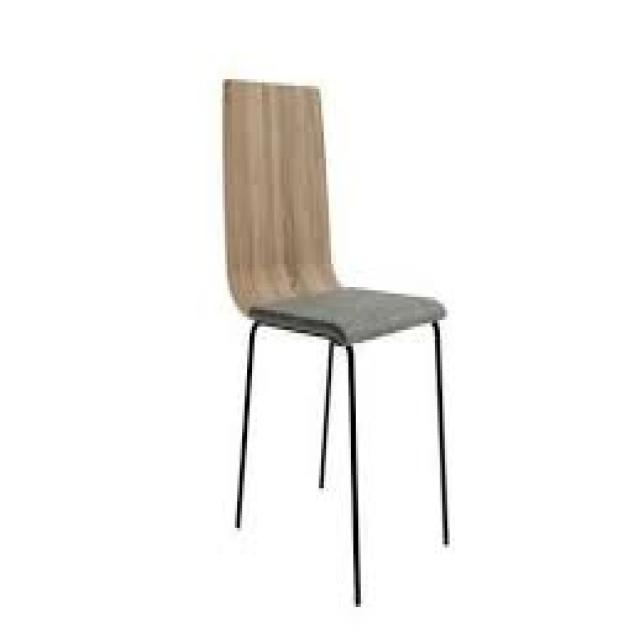bottle: (221, 65, 454, 613)
